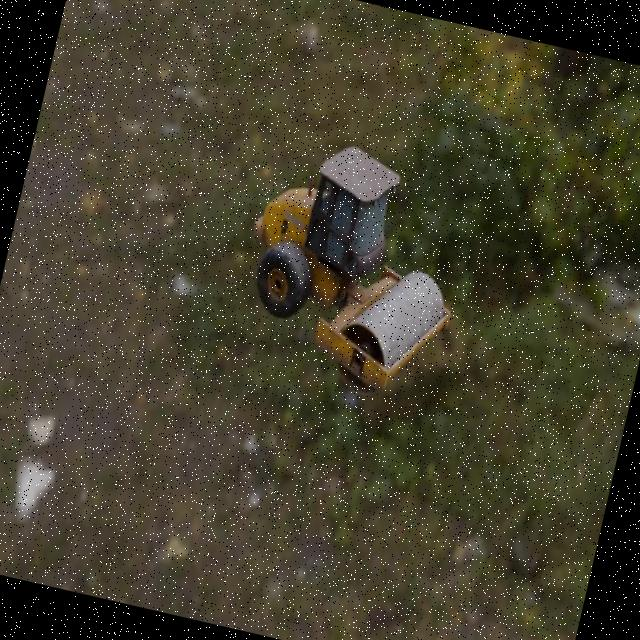Roller: (221, 126, 482, 410)
